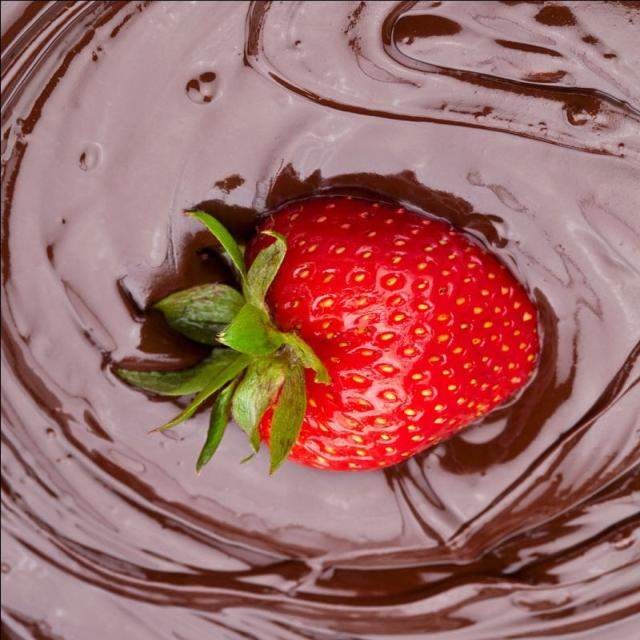strawberry: (122, 136, 580, 501)
